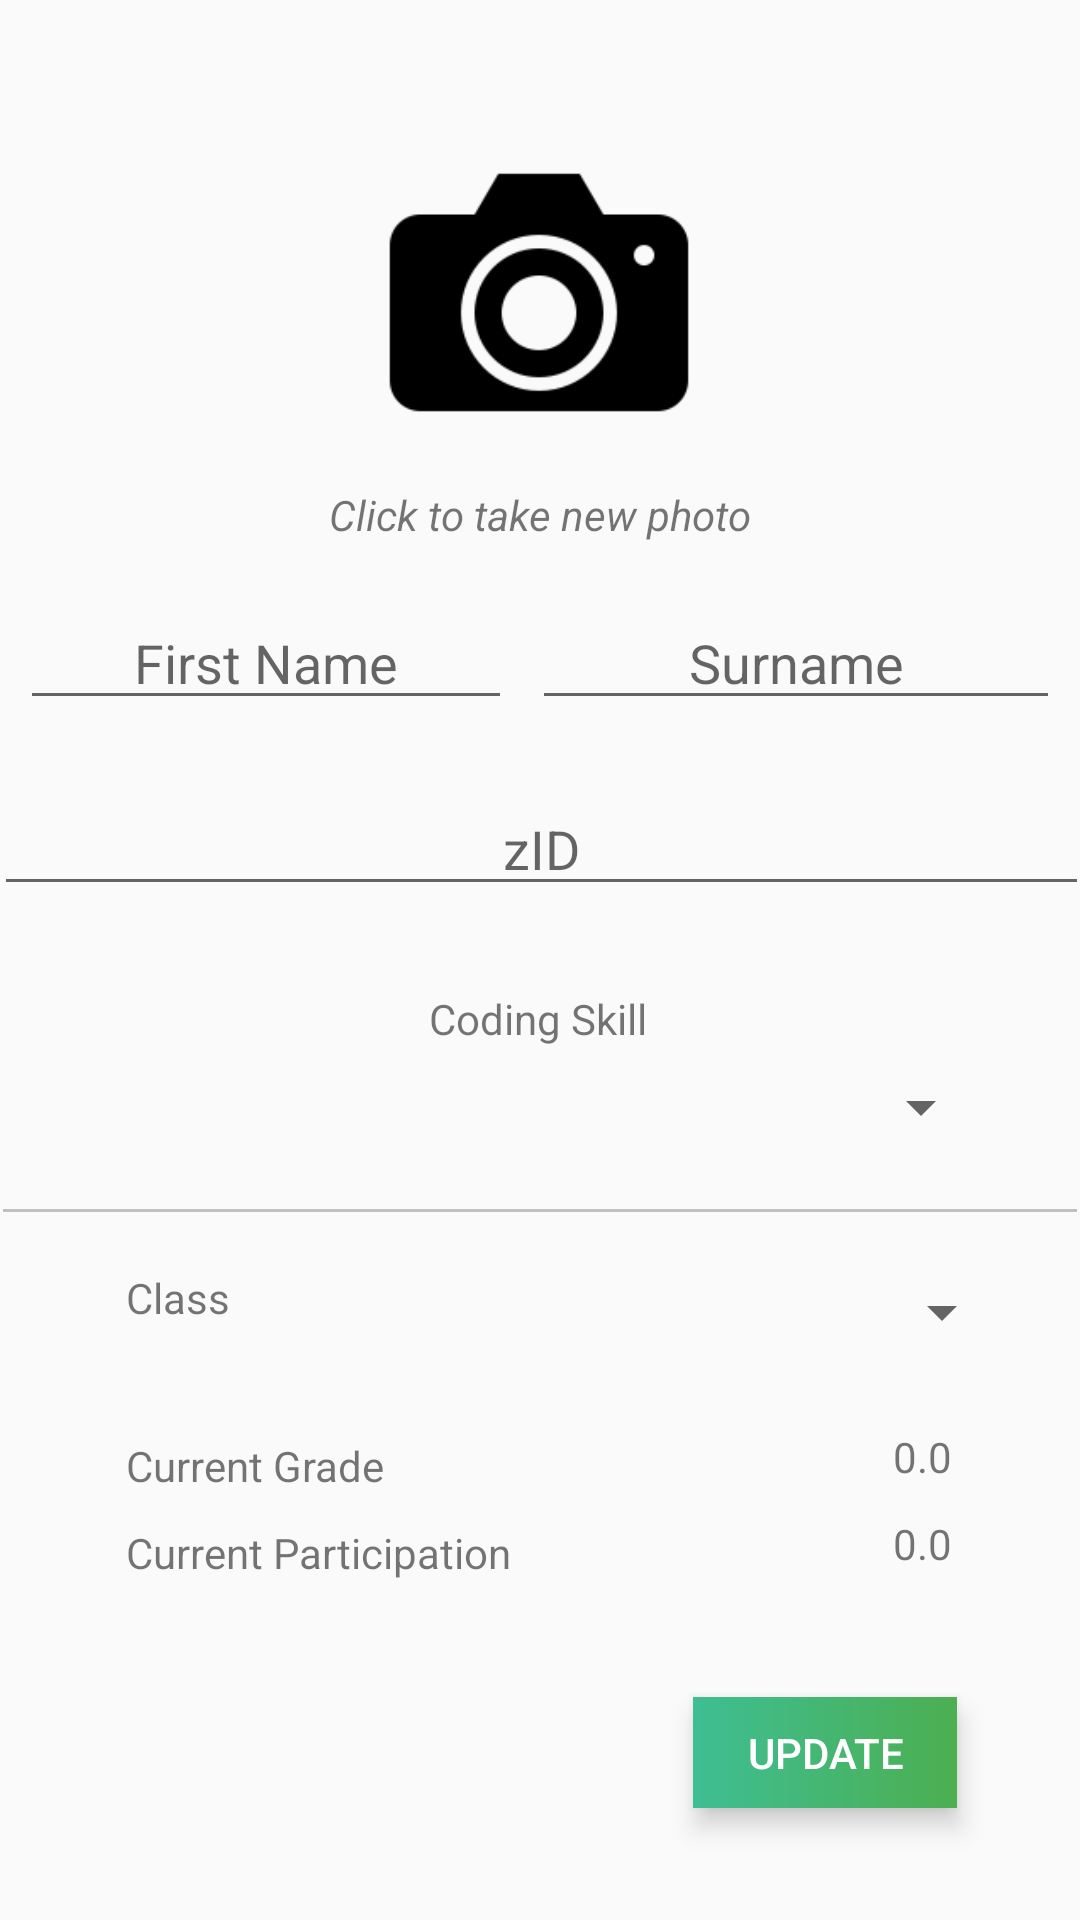

Icons on this 1080w x 1920h Android screen, each with the point to tap as (x,y):
cameraicon: (539,292)
